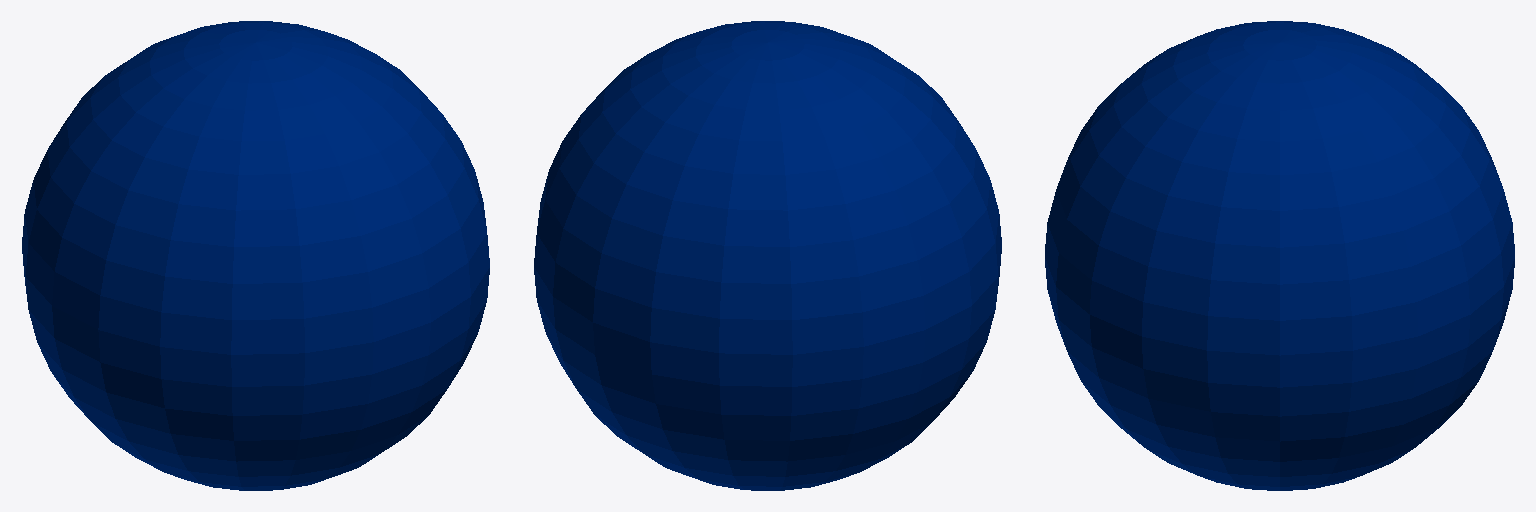
Rendered from blue_orb.obj.
3 views of the same model, side by side, from view 1: azimuth 30°, elevation 25°; view 2: azimuth 150°, elevation 25°; view 3: azimuth 270°, elevation 25° (orthographic).
Visible parts, largest first — view 1: pSphere1_lambert2_0; view 2: pSphere1_lambert2_0; view 3: pSphere1_lambert2_0.
Part boxes in pixels (x1,y1,x2,y2): pSphere1_lambert2_0: (22,21,489,490); pSphere1_lambert2_0: (534,21,1001,490); pSphere1_lambert2_0: (1045,21,1514,490).
Size of the model in its own units: 5.9 by 5.9 by 5.9.